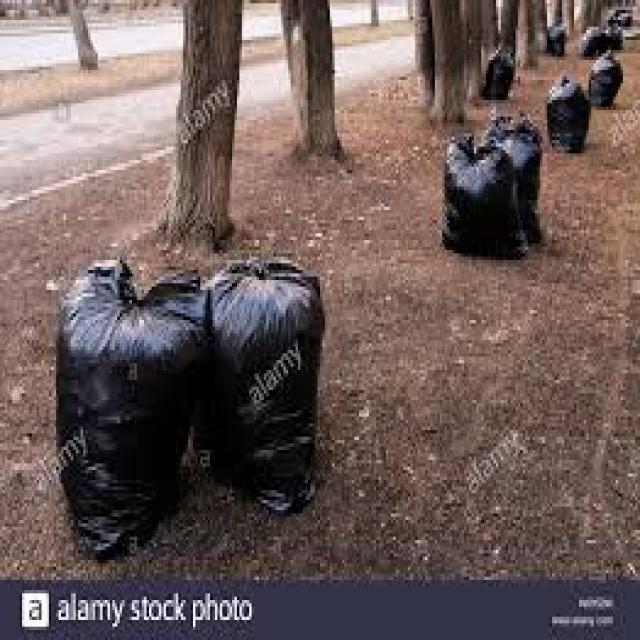garbage: (46, 247, 342, 560), (434, 103, 550, 250), (576, 20, 638, 110), (545, 57, 586, 150), (484, 40, 516, 97), (542, 20, 564, 53)
